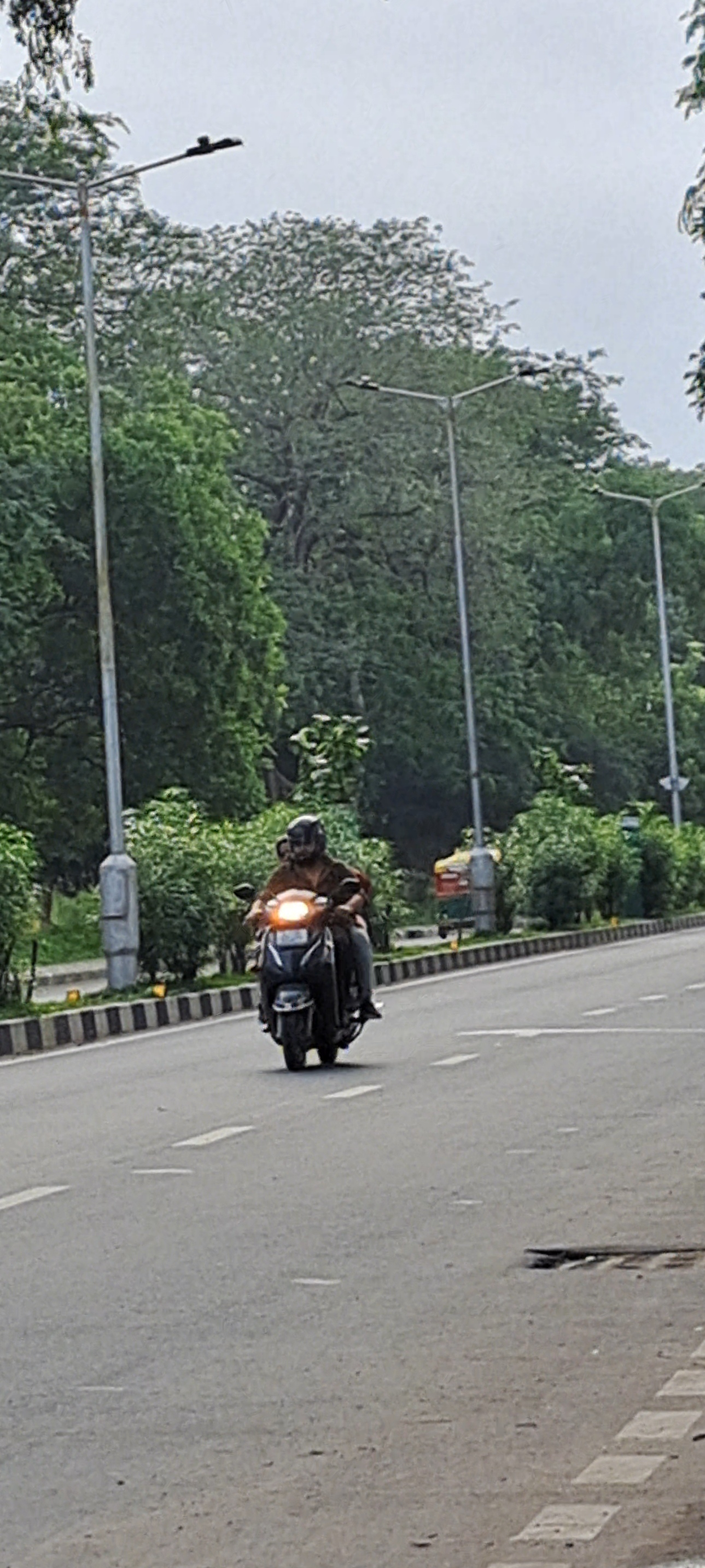BikeWithRider: (234, 806, 392, 1078)
Helmet: (282, 809, 333, 870)
